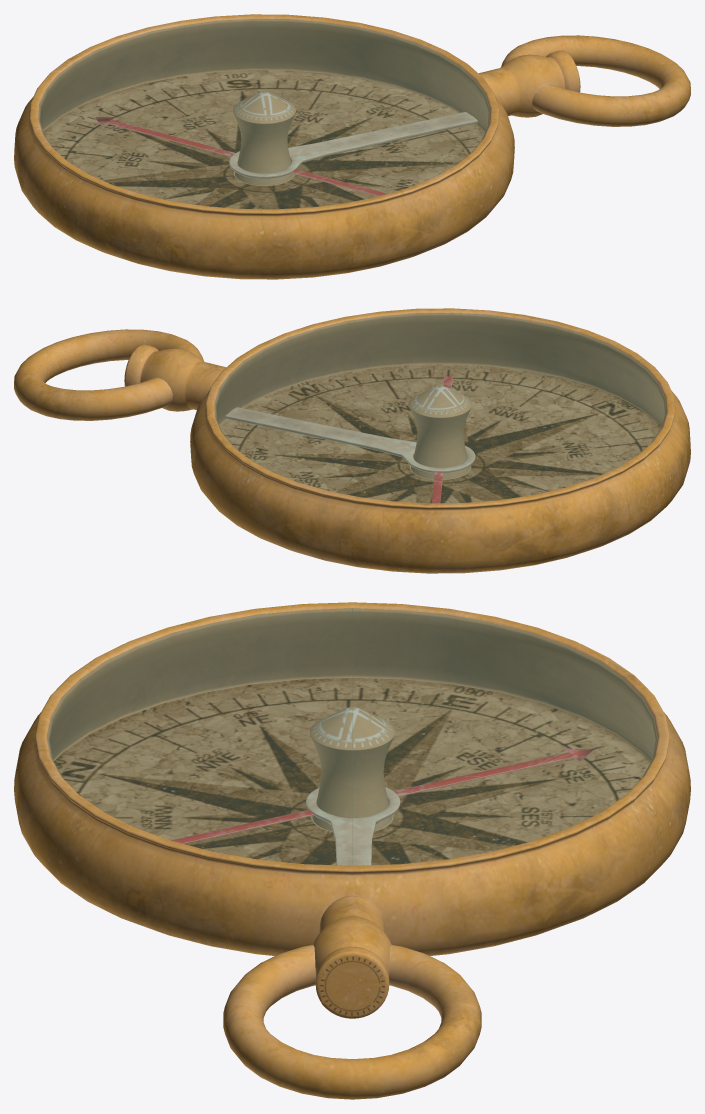
The model's file is compass.glb.
3 views of the same model, one above another, from view 1: azimuth 30°, elevation 25°; view 2: azimuth 150°, elevation 25°; view 3: azimuth 270°, elevation 25° (orthographic). The views are drawn at different scales.
Visible parts, largest first — view 1: compress, compressglass; view 2: compress, compressglass; view 3: compress, compressglass.
Part boxes in pixels (x1=…): compress: x1=14, y1=14, x2=690, y2=279; compressglass: x1=38, y1=19, x2=490, y2=209; compress: x1=14, y1=308, x2=690, y2=573; compressglass: x1=214, y1=313, x2=666, y2=503; compress: x1=14, y1=602, x2=690, y2=1099; compressglass: x1=46, y1=608, x2=658, y2=865.
Size of the model in its own units: 0.0826 by 0.012 by 0.0568.
2 materials, 2 textured.
